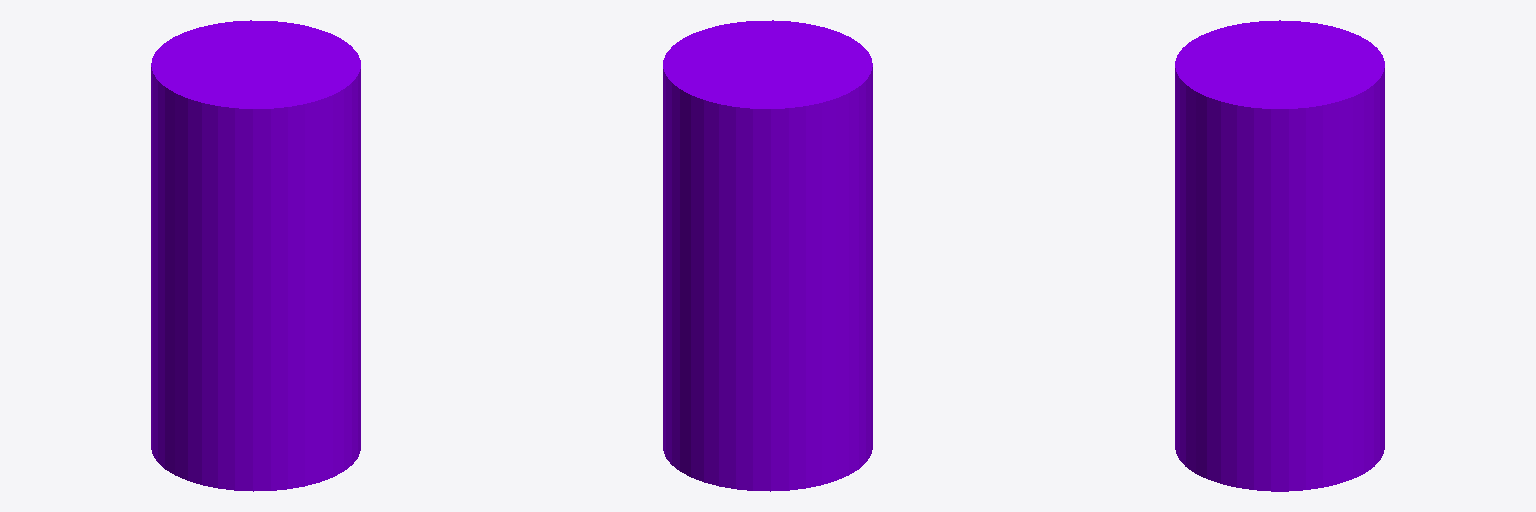
URDF robot description (Large_Short_Circle_Purple):
<?xml version="1.0"?>
<robot name="Large_Short_Circle_Purple">
    <link name="Large_Short_Circle_Purple">
        <visual>
            <geometry>
                <mesh filename="../mesh/factory_insertion/Large_Short_Circle_Purple.obj" scale="0.001 0.001 0.001"/>
            </geometry>
            <material name="Purple">
              <color rgba="0.6 0.0 1.0 0.0"/>
            </material>
        </visual>
        <collision>
            <geometry>
                <mesh filename="../mesh/factory_insertion/Large_Short_Circle_Purple.obj" scale="0.001 0.001 0.001"/>
            </geometry>
            <sdf resolution="512"/>
        </collision>
    </link>
</robot>

--- Facts derived from the render (not from the file) ---
3 views of the same robot in one strip: view 1: azimuth 30°, elevation 25°; view 2: azimuth 150°, elevation 25°; view 3: azimuth 270°, elevation 25° (orthographic).
Robot: Large_Short_Circle_Purple — 1 links, 0 joints (none); root link Large_Short_Circle_Purple; default pose: every joint at zero.
Visible links, largest first — view 1: Large_Short_Circle_Purple; view 2: Large_Short_Circle_Purple; view 3: Large_Short_Circle_Purple.
Link boxes in pixels (x1=…): Large_Short_Circle_Purple: x1=151, y1=20, x2=360, y2=491; Large_Short_Circle_Purple: x1=663, y1=20, x2=872, y2=491; Large_Short_Circle_Purple: x1=1175, y1=20, x2=1384, y2=491.
Bounding box of the posed robot: 0.0497 × 0.0498 × 0.1 m (x, y, z).
Meshes: 1 distinct files referenced, 1 mesh visuals loaded (1 OBJ).
